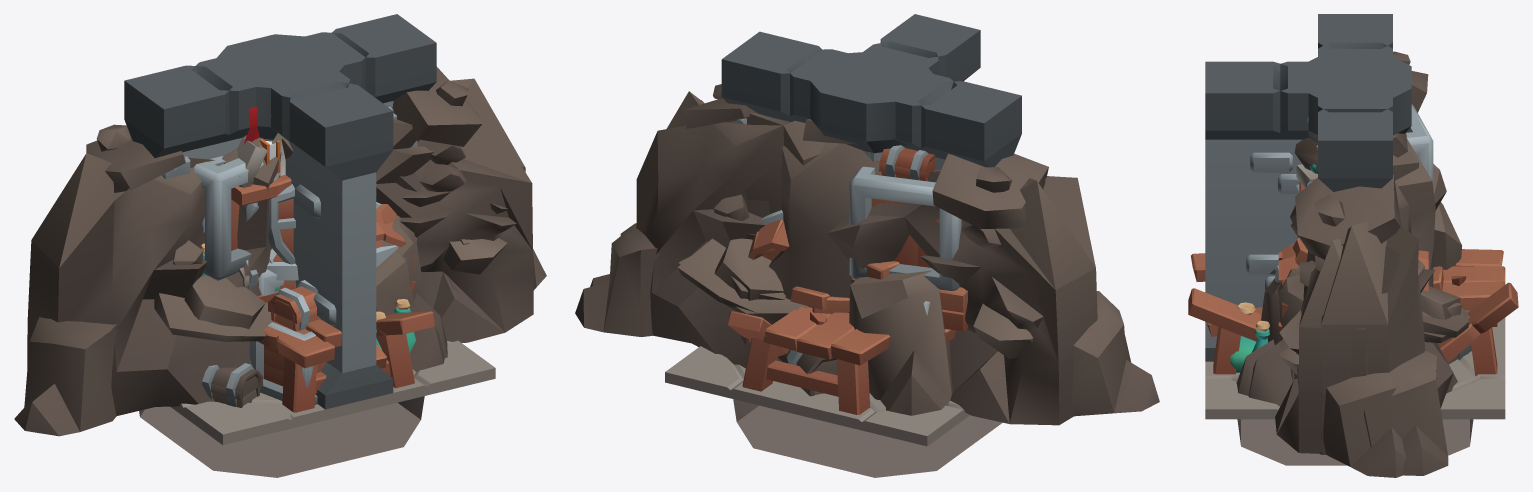
File: env.glb
3 renders of one model, left to right at view 1: azimuth 30°, elevation 25°; view 2: azimuth 150°, elevation 25°; view 3: azimuth 270°, elevation 25°, orthographic. The views are drawn at different scales.
Visible parts, largest first — view 1: rubble_large, wall_corner, wall_arched, floor_tile_big_grate, box_stacked, rubble_half, table_long_broken, floor_tile_large_rocks, wall_shelves, pillar_decorated, wall_pillar, wall (+2 smaller); view 2: rubble_large, rubble_half, floor_tile_big_grate, wall_arched, table_long_broken, box_stacked, floor_tile_large_rocks, wall_shelves, wall_pillar, wall_corner, keg_decorated, crates_stacked (+1 smaller); view 3: rubble_half, rubble_large, wall_corner, wall_arched, table_long_broken, floor_tile_large_rocks, floor_tile_big_grate, wall, box_stacked, wall_pillar, wall_half, wall_shelves (+2 smaller).
Part boxes in pixels (bbox=[...]): rubble_large: bbox=[14, 102, 546, 436]; wall_corner: bbox=[170, 68, 393, 409]; wall_arched: bbox=[124, 14, 436, 178]; floor_tile_big_grate: bbox=[139, 368, 495, 477]; box_stacked: bbox=[194, 158, 415, 407]; rubble_half: bbox=[376, 66, 525, 357]; table_long_broken: bbox=[258, 311, 434, 412]; floor_tile_large_rocks: bbox=[172, 340, 494, 444]; wall_shelves: bbox=[143, 49, 397, 302]; pillar_decorated: bbox=[226, 43, 334, 264]; wall_pillar: bbox=[198, 34, 344, 141]; wall: bbox=[151, 33, 366, 165]; rubble_large: bbox=[590, 100, 1159, 425]; rubble_half: bbox=[575, 84, 824, 368]; floor_tile_big_grate: bbox=[665, 372, 1002, 477]; wall_arched: bbox=[722, 31, 1021, 167]; table_long_broken: bbox=[728, 286, 890, 414]; box_stacked: bbox=[778, 145, 961, 396]; floor_tile_large_rocks: bbox=[665, 346, 969, 446]; wall_shelves: bbox=[721, 59, 995, 167]; wall_pillar: bbox=[810, 51, 952, 162]; wall_corner: bbox=[859, 14, 980, 169]; keg_decorated: bbox=[748, 210, 967, 342]; crates_stacked: bbox=[812, 261, 899, 314]; rubble_half: bbox=[1248, 151, 1468, 475]; rubble_large: bbox=[1236, 51, 1470, 477]; wall_corner: bbox=[1205, 42, 1381, 361]; wall_arched: bbox=[1318, 14, 1392, 191]; table_long_broken: bbox=[1188, 249, 1518, 376]; floor_tile_large_rocks: bbox=[1205, 318, 1505, 419]; floor_tile_big_grate: bbox=[1205, 410, 1504, 465]; wall: bbox=[1318, 106, 1392, 191]; box_stacked: bbox=[1230, 104, 1471, 372]; wall_pillar: bbox=[1299, 57, 1411, 142]; wall_half: bbox=[1318, 102, 1392, 186]; wall_shelves: bbox=[1296, 42, 1392, 191].
Bounding box in the file's own units: 8.13 × 5 × 4.4.
5 materials, 5 textured.
